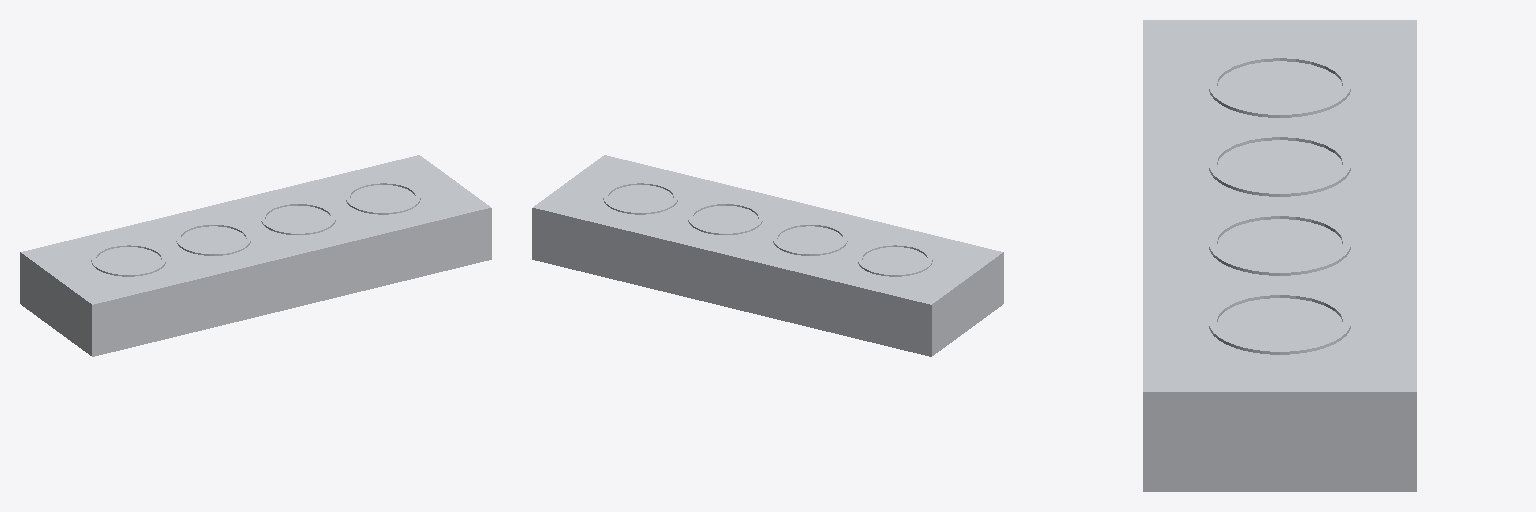
URDF robot description (cb_button_pad4):
<?xml version="1.0"?>
<!-- A15 keypad housing. Generated by FoundationTouch tools/contactbench/button_assets.py -->
<robot name="cb_button_pad4">
  <material name="c"><color rgba="0.85 0.86 0.88 1.0"/></material>
  <link name="receptive">
    <visual><origin xyz="0 0 0" rpy="0 0 0"/><geometry><mesh filename="button_pad4.obj" scale="1 1 1"/></geometry><material name="c"/></visual>
    <collision><origin xyz="0 0 0.010000" rpy="0 0 0"/><geometry><box size="0.160000 0.050000 0.020000"/></geometry></collision>
  </link>
</robot>

--- Render facts (derived) ---
The picture shows the robot from 3 angles, left to right: view 1: azimuth 30°, elevation 25°; view 2: azimuth 150°, elevation 25°; view 3: azimuth 270°, elevation 25°; orthographic projection.
Model cb_button_pad4 with 1 links and 0 joints (none), rooted at receptive, posed all joints at 0.
Visible links, largest first — view 1: receptive; view 2: receptive; view 3: receptive.
Boxes of the visible links, bbox=[...] form: receptive: bbox=[20, 155, 491, 356]; receptive: bbox=[532, 155, 1003, 356]; receptive: bbox=[1143, 20, 1416, 491].
Bounding box of the posed robot: 0.16 × 0.05 × 0.0206 m (x, y, z).
1 mesh visuals loaded from 1 distinct referenced files (1 OBJ).
